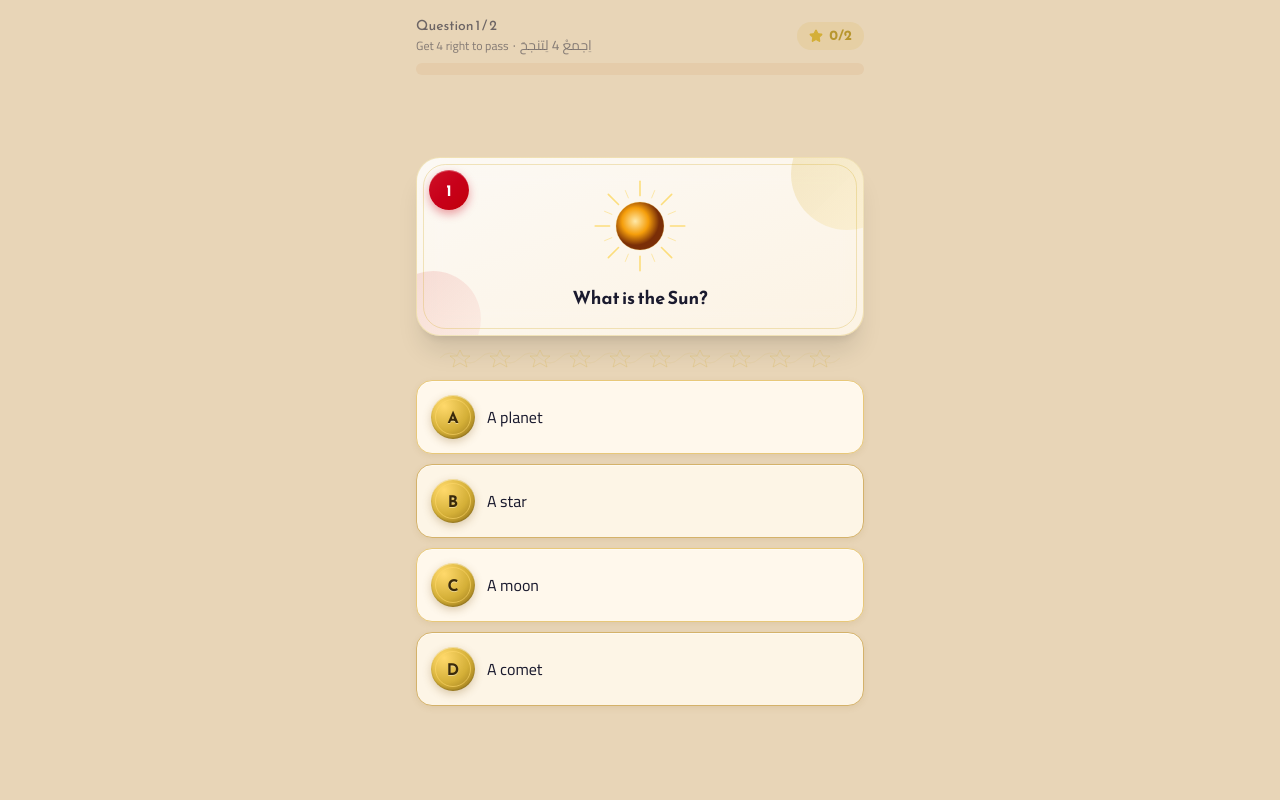
Scenario: QuizPhase › shows correct headline on right answer
The image size is (1280, 800).
Click the button with aria-label "option B: A star".
click(453, 501)  # box top-left (416, 464), bottom-right (864, 538)
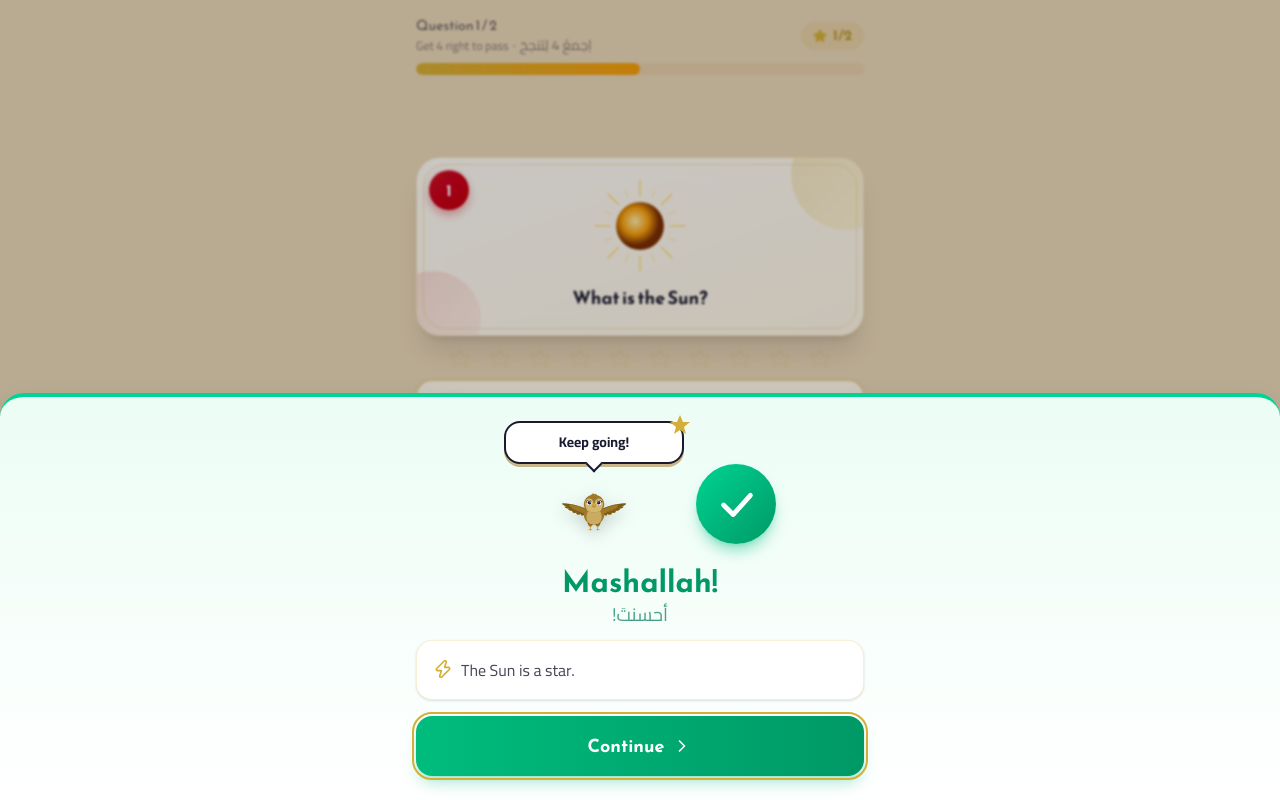
Expected: the heading "Mashallah!" is shown, top-left (562, 559), bottom-right (718, 604)
